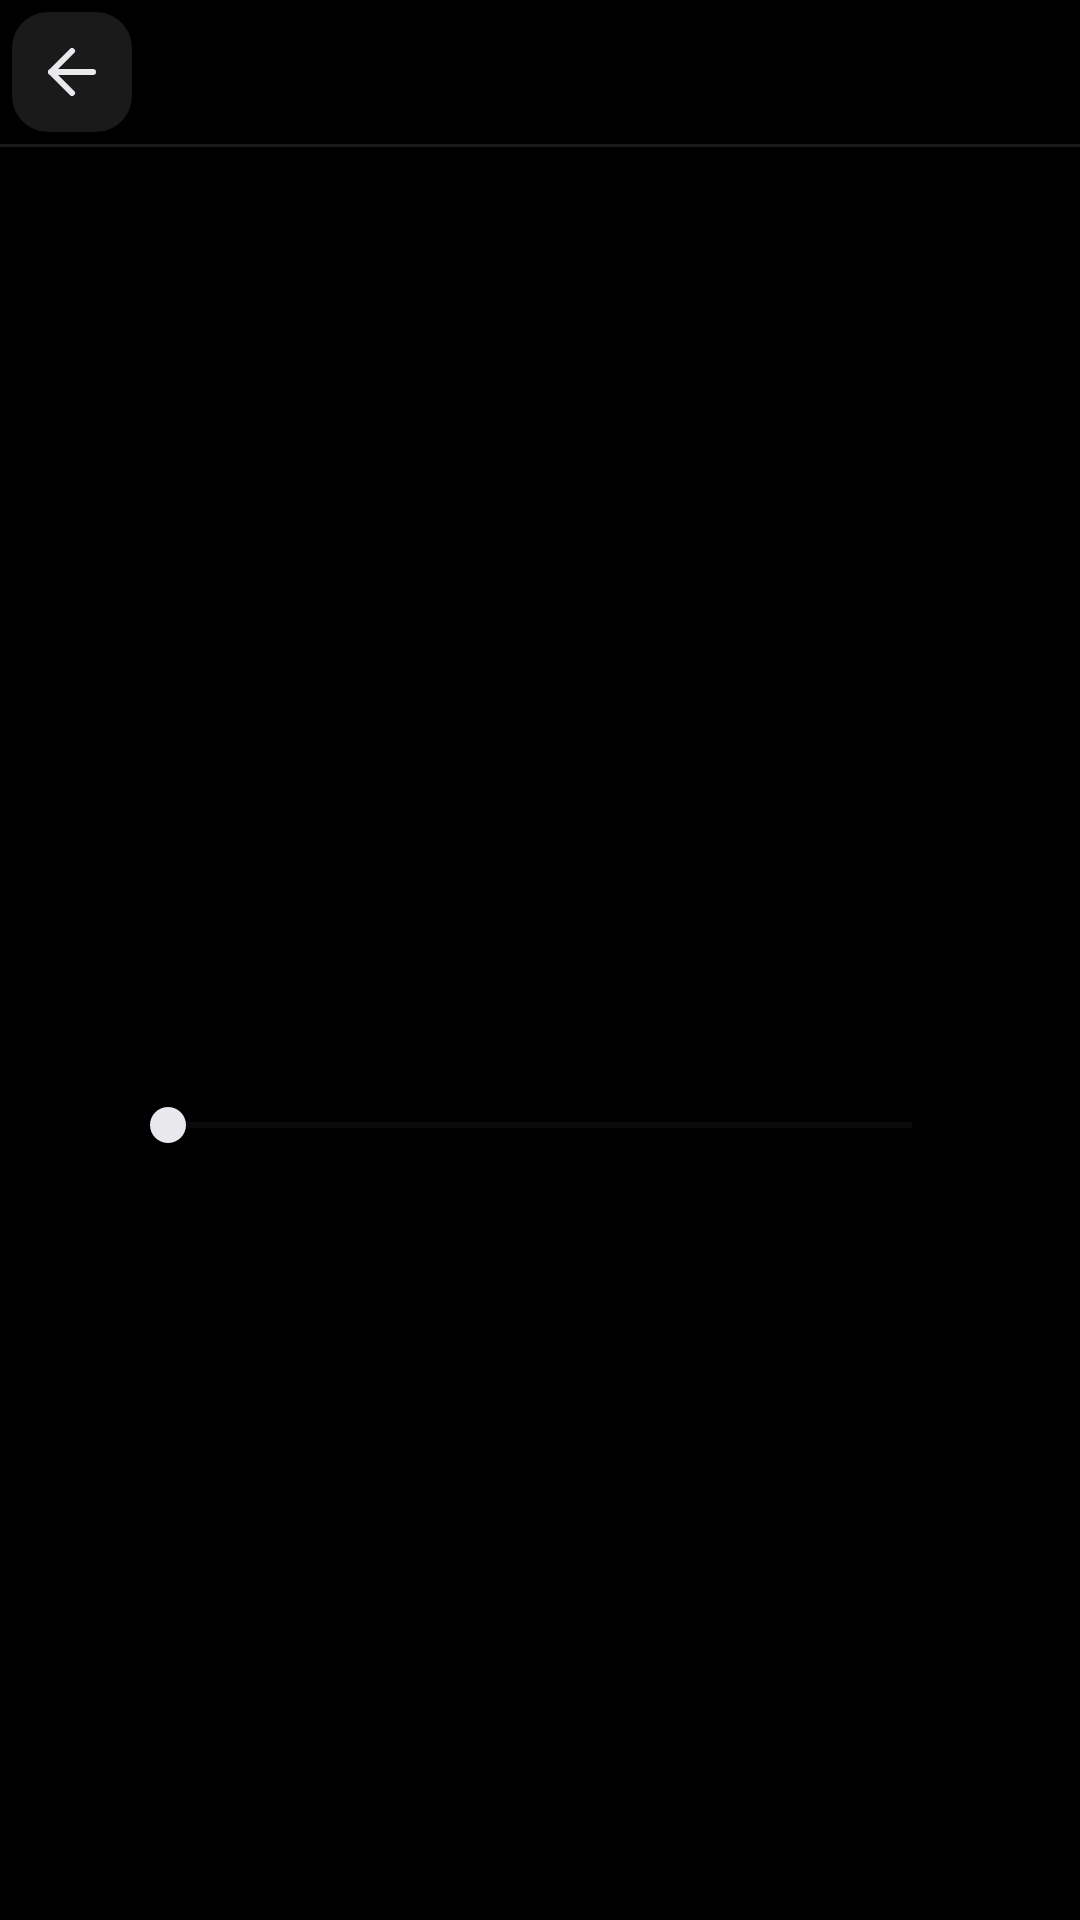

Named icons in this screenshot (1080px×1920px) and their centers, (x,y):
← 返回: (72,72)
